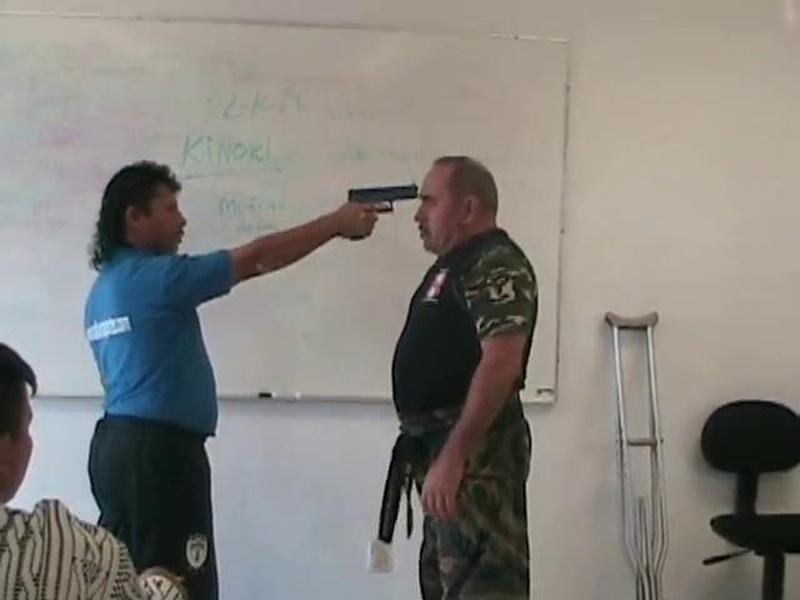Pistola: (343, 180, 421, 220)
